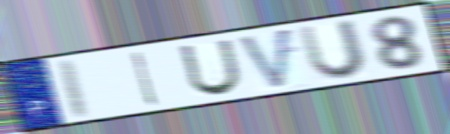8: (367, 13, 426, 71)
I: (59, 57, 94, 121), (130, 49, 160, 108)
U: (296, 17, 370, 81), (177, 37, 243, 97)
V: (235, 25, 294, 92)
